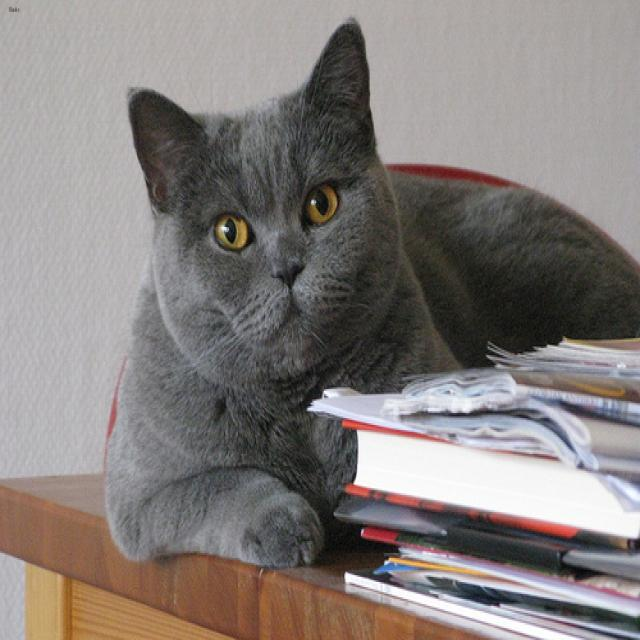British_Shorthair: (127, 14, 399, 376)
